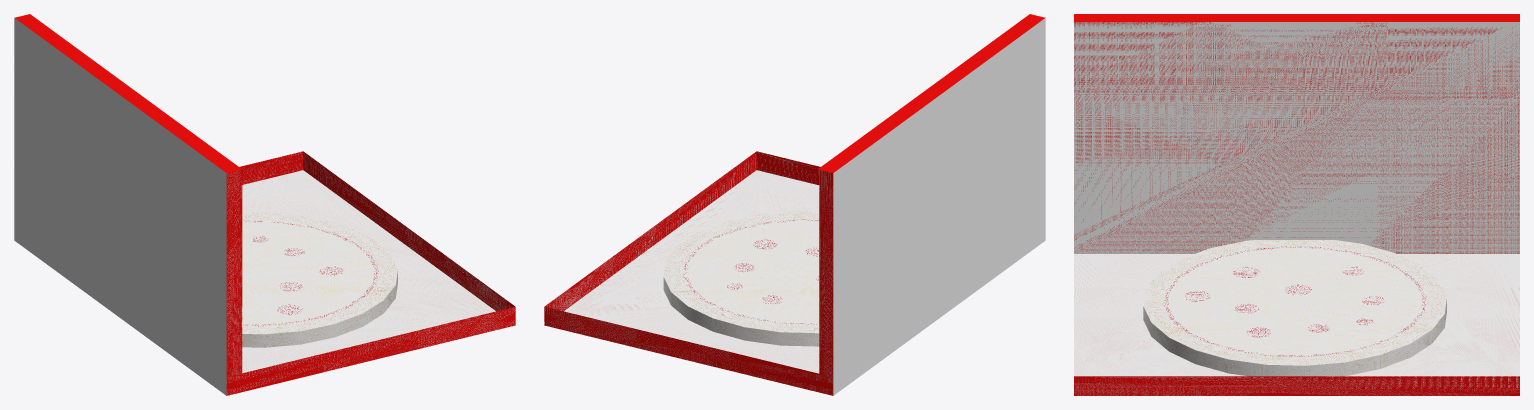
The model's file is pizza_box.dae.
The picture shows the model from 3 angles, left to right: view 1: azimuth 30°, elevation 25°; view 2: azimuth 150°, elevation 25°; view 3: azimuth 270°, elevation 25°; orthographic projection. The views are drawn at different scales.
Parts seen in each view (by area): view 1: SketchUp_002; view 2: SketchUp_002; view 3: SketchUp_002.
Boxes of the visible parts, x1,y1,x2,y2 form: SketchUp_002: (14, 14, 515, 395); SketchUp_002: (544, 14, 1045, 395); SketchUp_002: (1074, 14, 1519, 395).
Bounding box in the file's own units: 2.29 × 2.91 × 1.68.
